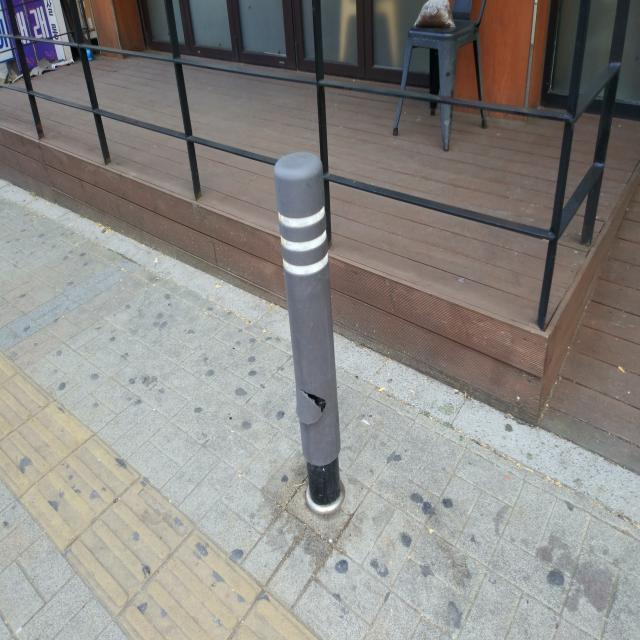pole: (274, 148, 352, 516)
